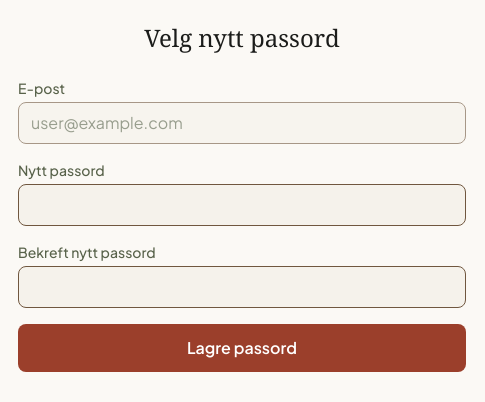
PasswordResetScreen › shows mismatch error when passwords differ
Expected: the field showing "user@example.com" is shown, [18,102,466,144]
Type "password123" into the password field labelled "Nytt passord" at (242, 205), box [18,184,466,226]
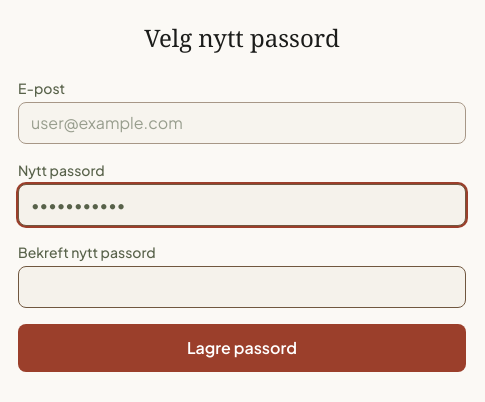
Type "password124" into the password field labelled "Bekreft nytt passord" at (242, 287), box [18,266,466,308]
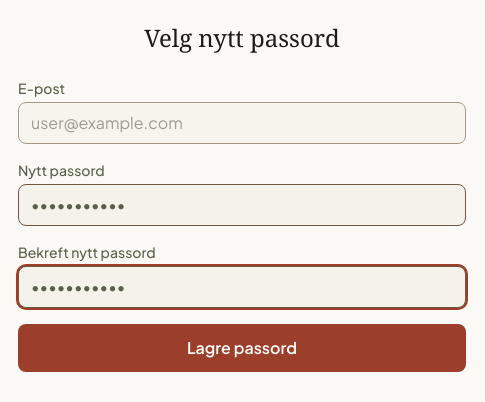
Click the button "Lagre passord" at (242, 348), box [18,324,466,372]
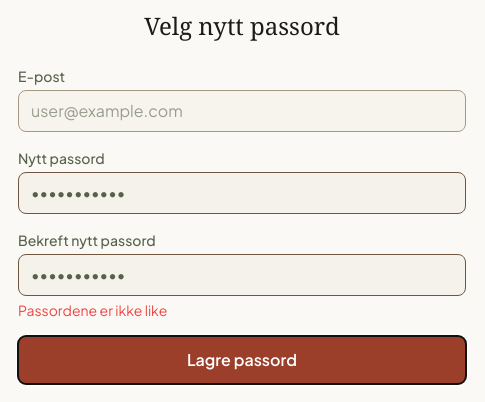
Expected: the text "Passordene er ikke like" is shown, [18,301,167,319]
